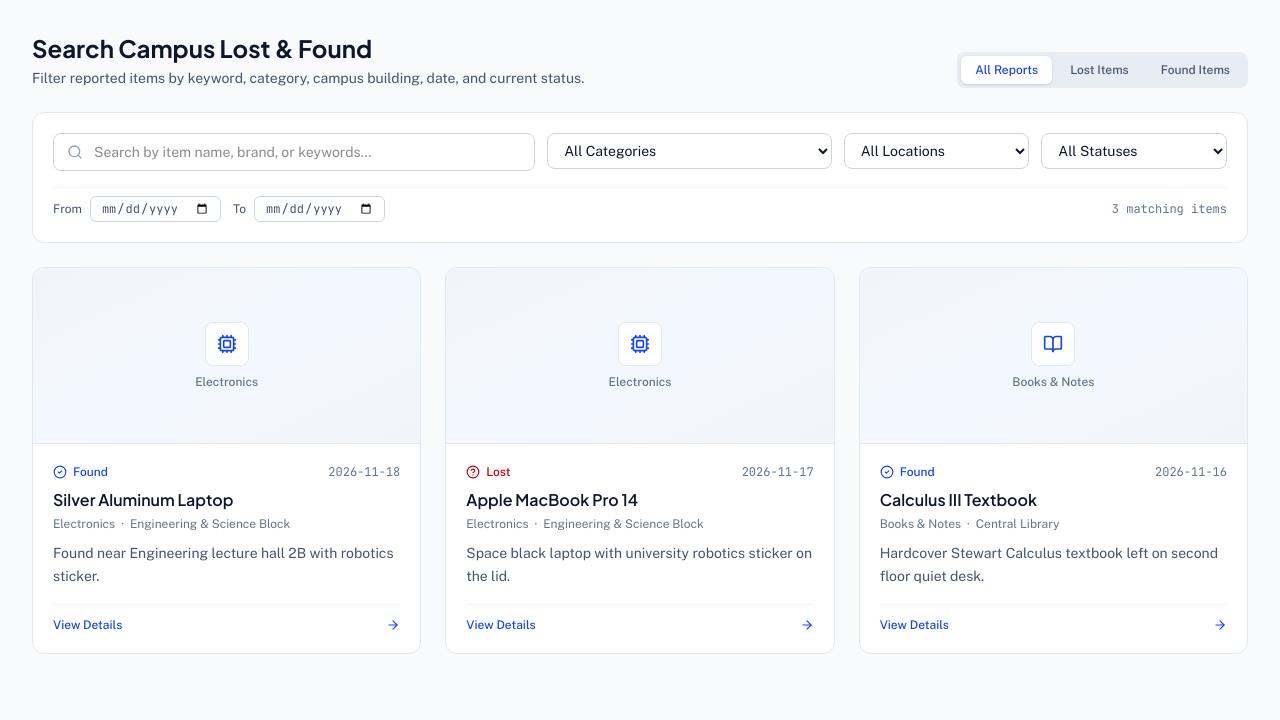
Test: Module 2: Item Search and Matching › TC-M2-02: Searches items using description keywords
In the search field named "Search by item name or keywords": (294, 152) top-left (53, 133), bottom-right (535, 171), type "robotics"
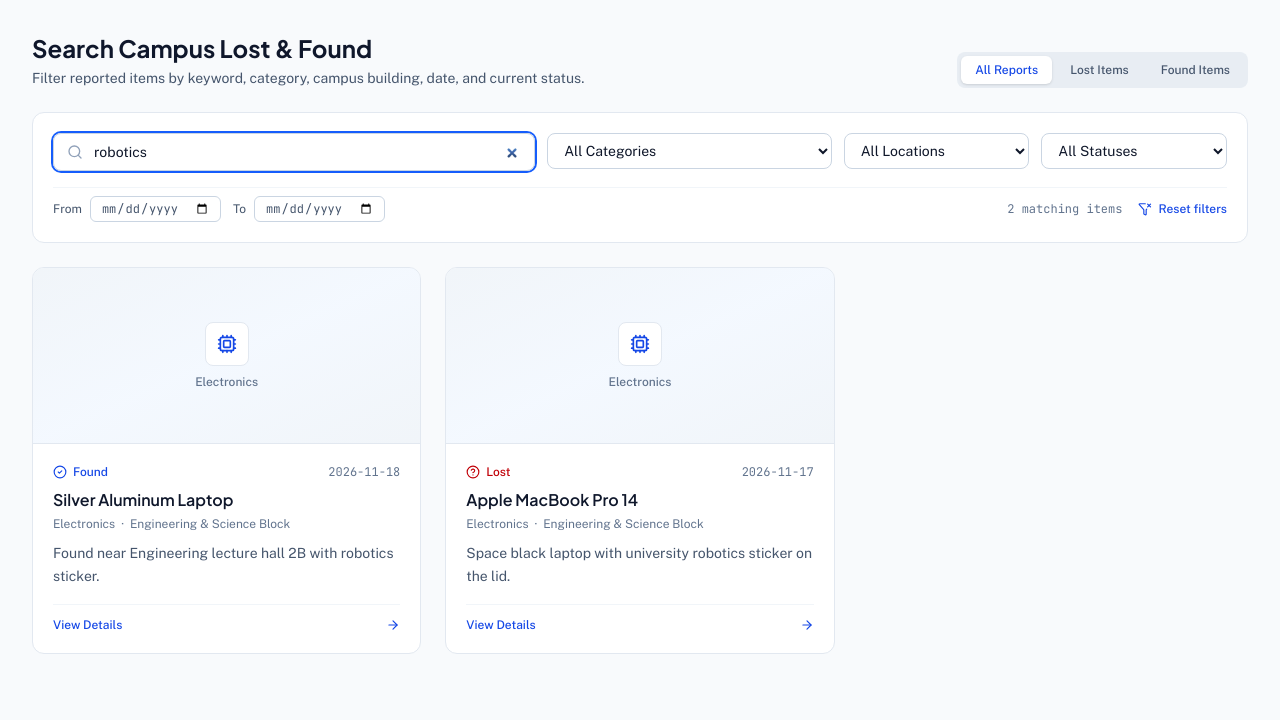
Expected: the heading "Apple MacBook Pro 14" is shown, top-left (466, 489), bottom-right (638, 510)
Now the button "Calculus III Textbook" is gone
